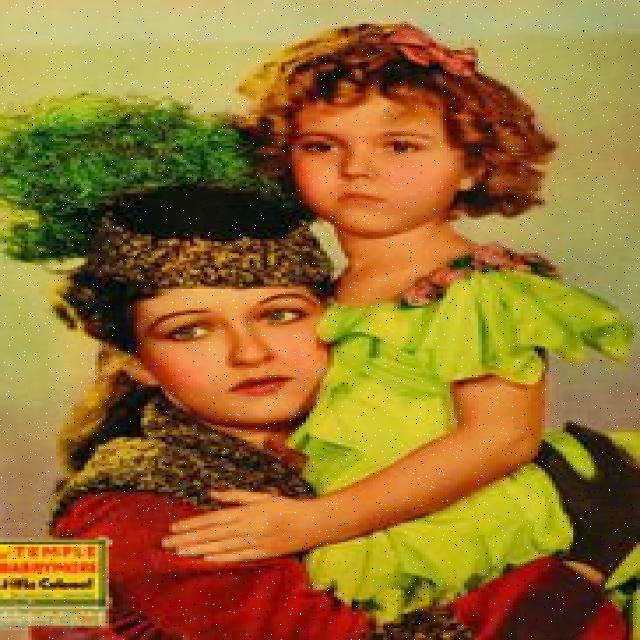picture: (6, 6, 636, 630)
